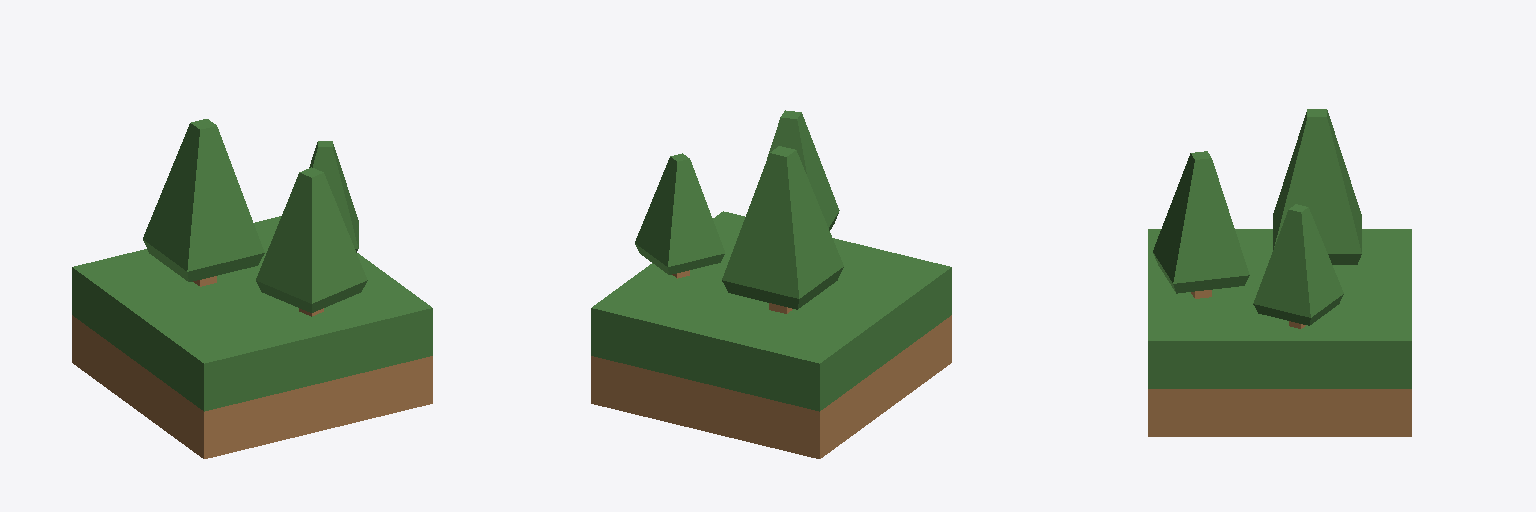
Rendered from towerDefense_063.obj.
The picture shows the model from 3 angles: view 1: azimuth 30°, elevation 25°; view 2: azimuth 150°, elevation 25°; view 3: azimuth 270°, elevation 25°; orthographic projection.
Parts seen in each view (by area): view 1: Mesh4 Group1 Model, Mesh3 Component_2_3 Group1 Model, Mesh2 Component_2_2 Group1 Model, Mesh1 Component_2_1 Group1 Model; view 2: Mesh4 Group1 Model, Mesh3 Component_2_3 Group1 Model, Mesh1 Component_2_1 Group1 Model, Mesh2 Component_2_2 Group1 Model; view 3: Mesh4 Group1 Model, Mesh2 Component_2_2 Group1 Model, Mesh3 Component_2_3 Group1 Model, Mesh1 Component_2_1 Group1 Model.
Boxes of the visible parts, <box> form: Mesh4 Group1 Model: <box>72,216,432,458</box>; Mesh3 Component_2_3 Group1 Model: <box>143,119,264,286</box>; Mesh2 Component_2_2 Group1 Model: <box>256,167,367,316</box>; Mesh1 Component_2_1 Group1 Model: <box>309,141,358,252</box>; Mesh4 Group1 Model: <box>591,211,951,458</box>; Mesh3 Component_2_3 Group1 Model: <box>722,146,843,313</box>; Mesh1 Component_2_1 Group1 Model: <box>635,153,724,278</box>; Mesh2 Component_2_2 Group1 Model: <box>767,110,839,230</box>; Mesh4 Group1 Model: <box>1148,229,1411,436</box>; Mesh2 Component_2_2 Group1 Model: <box>1153,151,1249,298</box>; Mesh3 Component_2_3 Group1 Model: <box>1273,109,1361,264</box>; Mesh1 Component_2_1 Group1 Model: <box>1253,204,1343,328</box>.
Size of the model in its own units: 1.03 by 1.06 by 1.